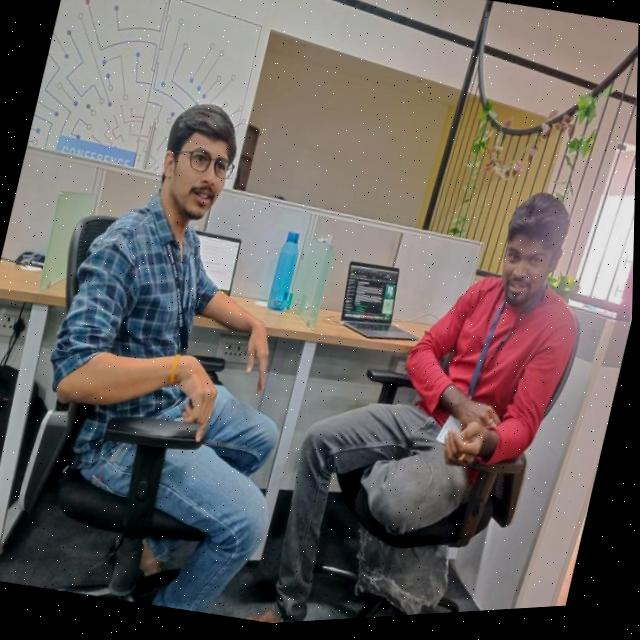id_card: (431, 285, 522, 463), (131, 220, 207, 359)
